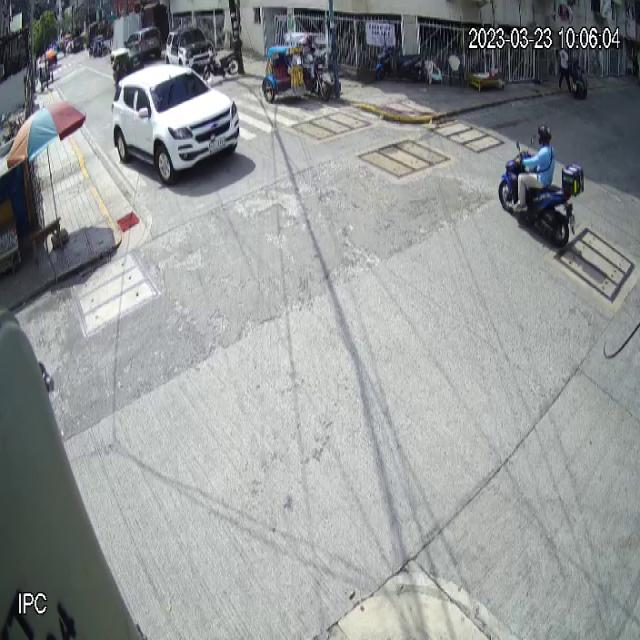Car: (111, 62, 240, 187)
Motorcycle: (497, 132, 584, 247)
Tricycle: (262, 32, 332, 104)
